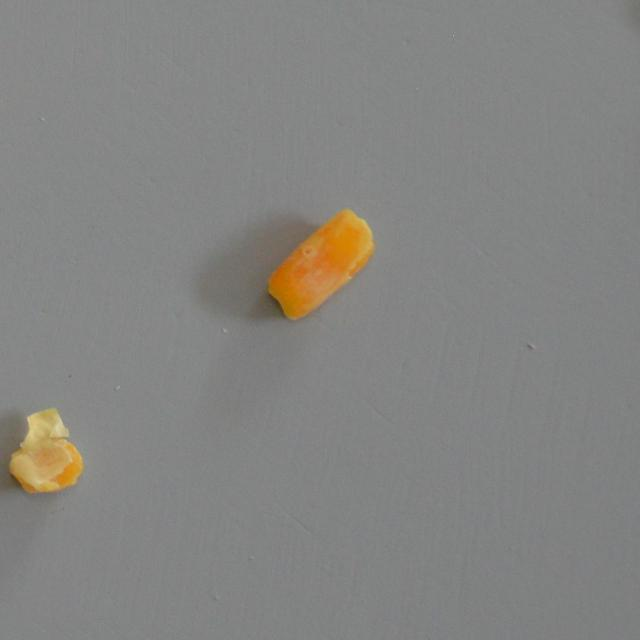pelicula: (262, 204, 378, 324), (0, 384, 94, 508)
